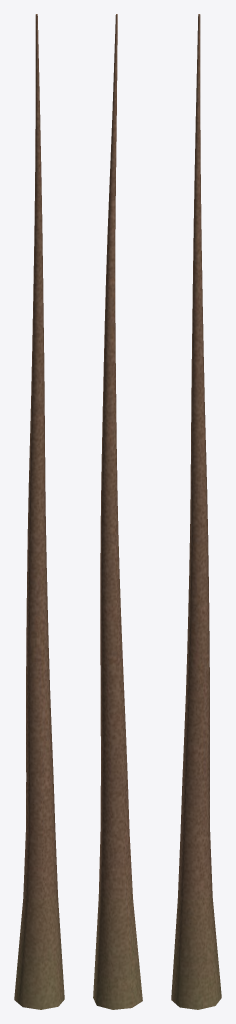
The model's file is spruce1_trunk.glb.
3 views of the same model, side by side, from view 1: azimuth 90°, elevation 25°; view 2: azimuth 210°, elevation 25°; view 3: azimuth 270°, elevation 25° (orthographic).
Parts seen in each view (by area): view 1: trunk; view 2: trunk; view 3: trunk.
Part boxes in pixels (x1=…): trunk: x1=14, y1=14, x2=64, y2=1009; trunk: x1=93, y1=14, x2=142, y2=1009; trunk: x1=171, y1=14, x2=221, y2=1009.
Bounding box in the file's own units: 0.5128 × 11.01 × 0.5128.
1 material, 1 textured.
